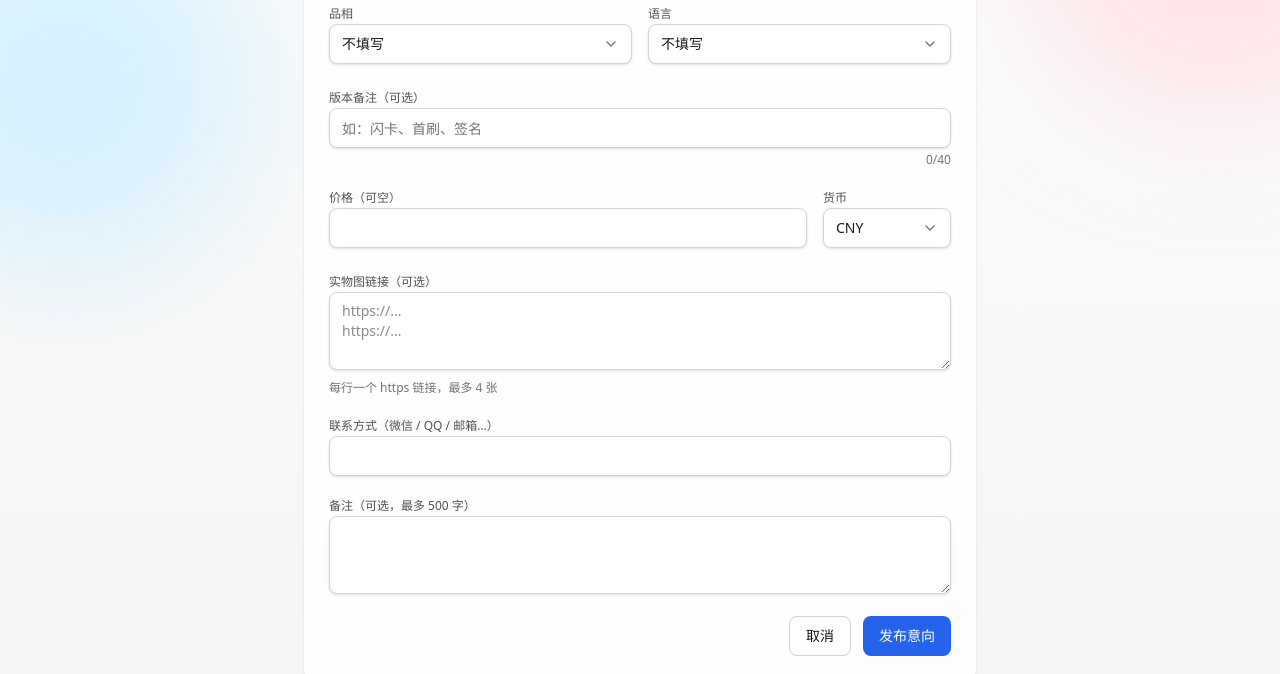
Test: TradePublishPage › uses a real newline in the image placeholder and field errors for an empty contact
(page scrolled)
Click the button "发布意向".
click(907, 636)  # box [863,616,951,656]
(page scrolled)
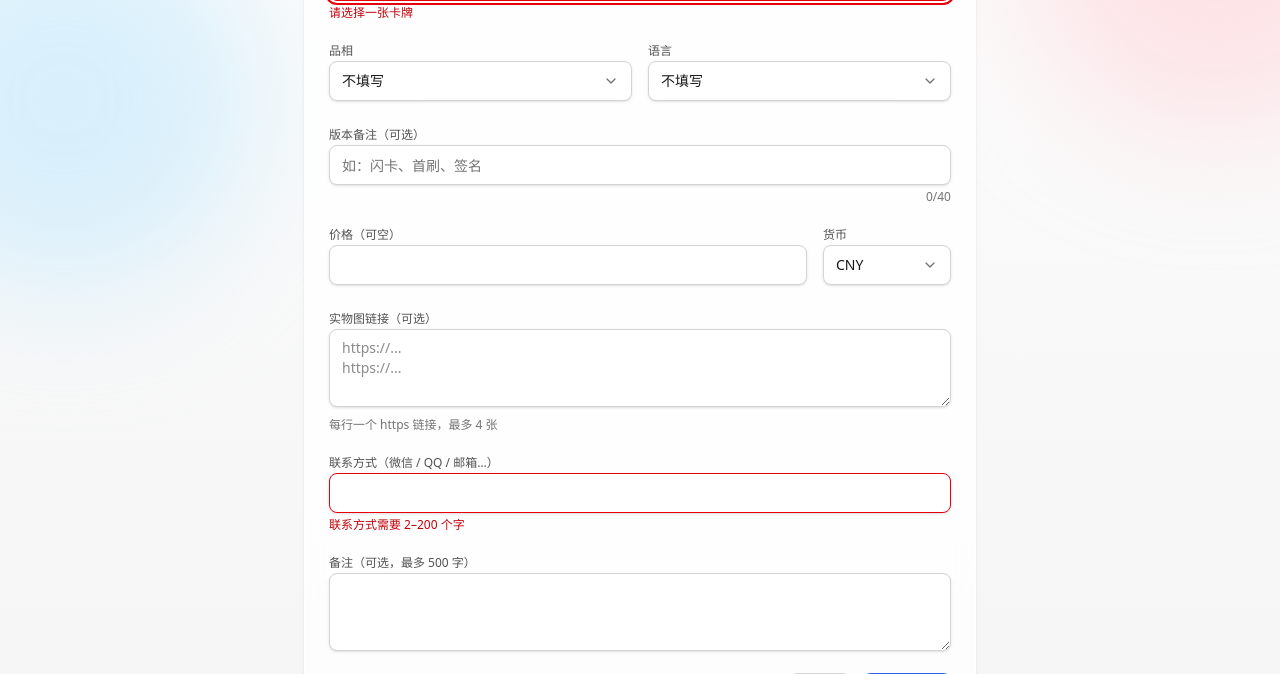
Check: the text "请选择一张卡牌" is shown, box [329,4,413,21]
Check: the text "联系方式需要 2–200 个字" is shown, box [329,516,465,533]
